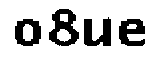8: (48, 8, 80, 50)
e: (119, 17, 145, 49)
o: (14, 17, 43, 50)
u: (82, 16, 113, 52)
